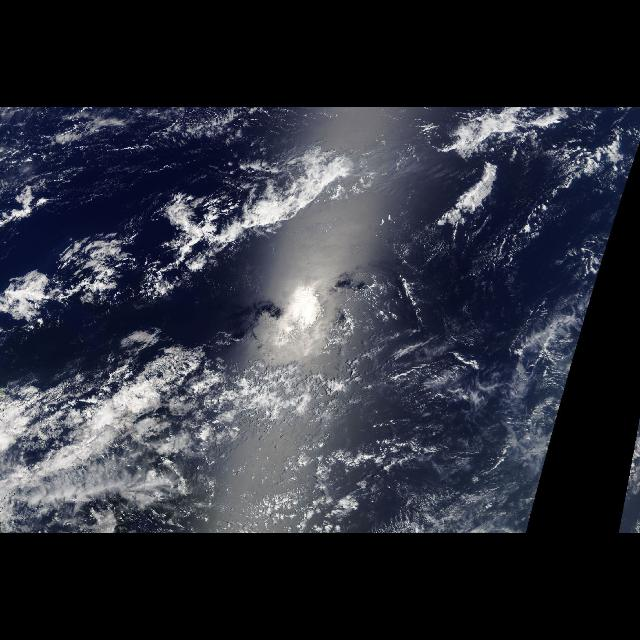Fish: (1, 110, 502, 328)
